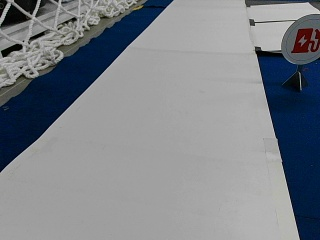battery: (281, 14, 320, 64)
